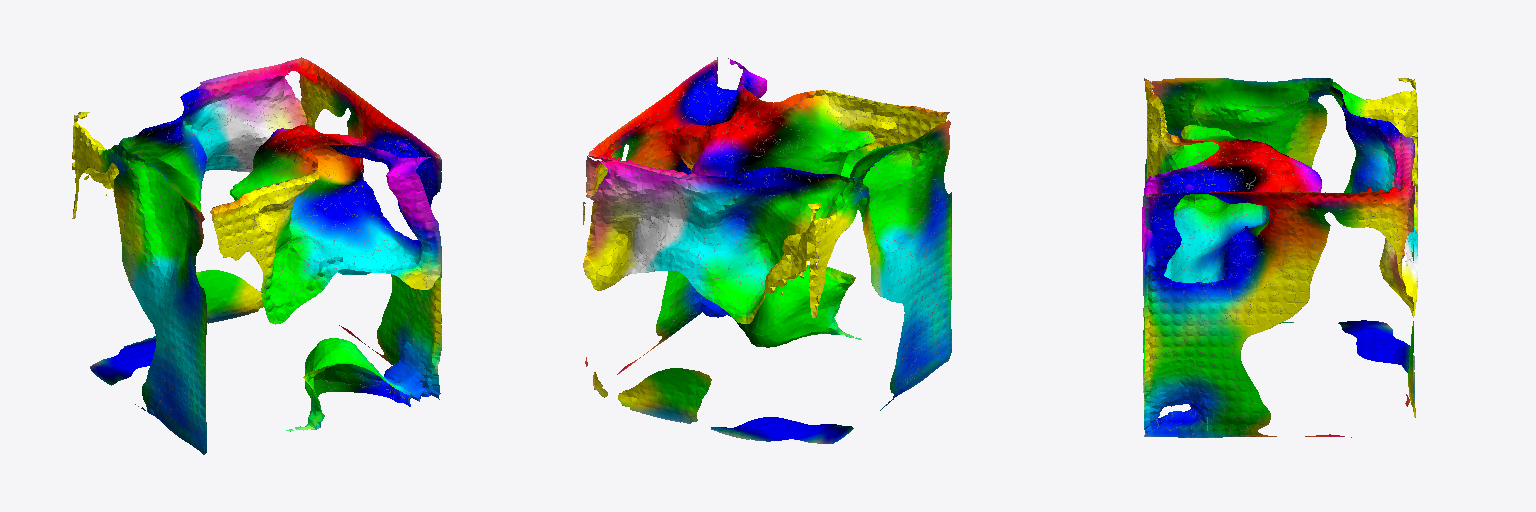
3 views of the same model, side by side, from view 1: azimuth 30°, elevation 25°; view 2: azimuth 150°, elevation 25°; view 3: azimuth 270°, elevation 25° (orthographic).
Size of the model in its own units: 1.01 by 1.01 by 1.02.
Materials: 1 (1 with a texture image).